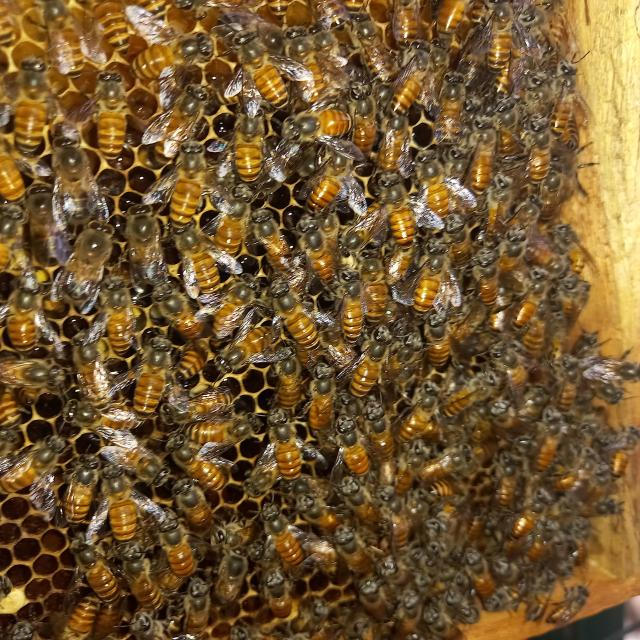honeybee: (261, 272, 349, 356), (440, 558, 512, 640), (250, 197, 318, 277), (39, 118, 104, 200), (477, 18, 542, 97), (146, 88, 211, 156), (243, 562, 308, 630), (23, 178, 79, 254), (8, 271, 70, 339), (175, 246, 239, 311), (110, 545, 178, 606), (538, 50, 597, 120), (265, 412, 324, 482), (539, 247, 598, 316), (72, 544, 150, 596), (224, 39, 286, 104), (0, 340, 74, 394), (166, 429, 232, 489), (134, 331, 178, 419), (206, 191, 265, 256), (181, 578, 245, 637), (69, 328, 123, 397), (78, 393, 147, 447), (221, 279, 270, 355), (322, 277, 379, 342), (420, 292, 470, 366), (459, 244, 508, 317), (470, 123, 517, 199), (146, 283, 217, 333), (554, 338, 624, 388), (44, 5, 103, 63), (56, 592, 127, 640), (101, 63, 131, 174), (385, 186, 433, 254), (438, 74, 474, 163), (164, 456, 215, 518), (520, 122, 574, 180), (61, 225, 114, 284), (142, 45, 222, 84), (0, 433, 59, 485), (354, 574, 406, 632), (409, 241, 459, 301), (224, 123, 274, 182), (6, 52, 47, 123), (305, 358, 346, 429), (301, 164, 355, 217), (265, 496, 318, 550), (514, 275, 554, 346), (319, 430, 379, 477), (374, 61, 426, 115), (104, 283, 150, 344), (134, 596, 196, 640), (328, 506, 375, 564), (524, 418, 592, 458), (158, 499, 205, 556), (110, 465, 156, 523), (164, 156, 197, 234), (206, 544, 256, 594), (487, 348, 535, 400), (295, 106, 355, 146), (356, 418, 406, 462), (384, 391, 436, 432), (69, 450, 102, 512), (543, 465, 600, 499), (260, 356, 301, 403), (380, 504, 421, 551), (160, 355, 237, 380), (182, 390, 230, 430), (416, 444, 489, 470), (489, 233, 538, 271), (498, 508, 552, 542), (595, 449, 630, 500), (432, 388, 487, 420), (459, 479, 534, 502), (125, 205, 154, 260), (412, 529, 455, 566), (348, 348, 382, 392), (436, 486, 477, 522), (473, 404, 542, 424), (334, 471, 373, 503), (385, 463, 436, 483), (549, 586, 594, 607)
